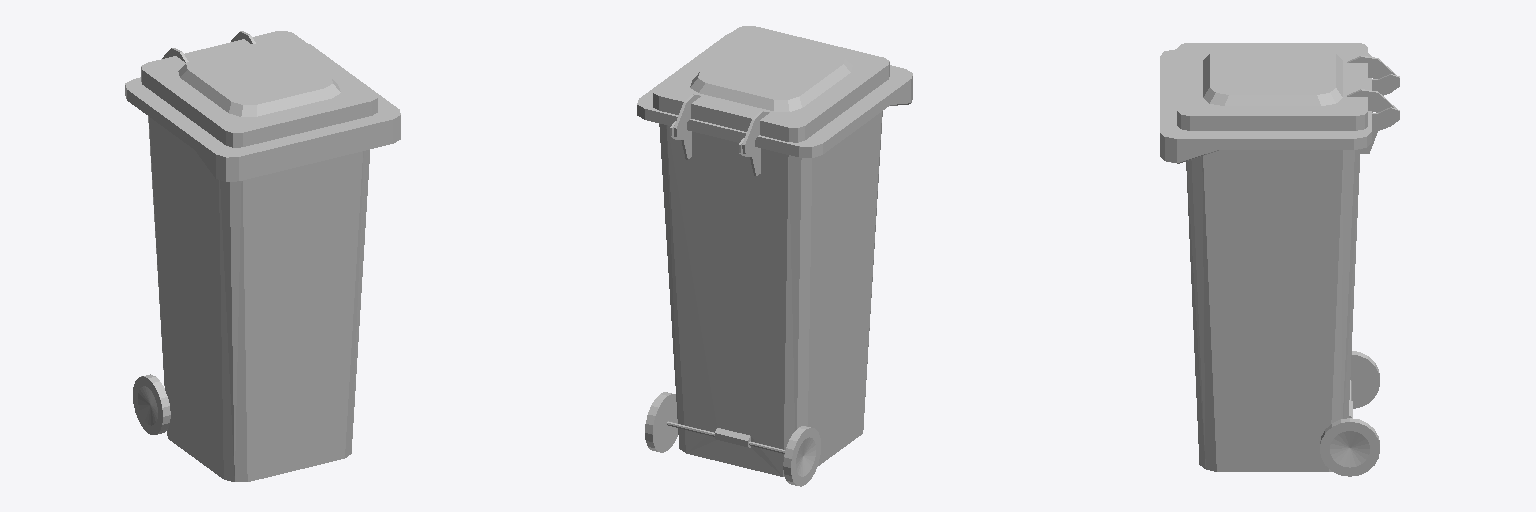
File: blueBin.obj
3 views of the same model, side by side, from view 1: azimuth 30°, elevation 25°; view 2: azimuth 150°, elevation 25°; view 3: azimuth 270°, elevation 25° (orthographic).
Parts seen in each view (by area): view 1: Trashbin, TrashbinLid, TrashbinWheels; view 2: Trashbin, TrashbinLid, TrashbinWheels; view 3: Trashbin, TrashbinLid, TrashbinWheels.
Part boxes in pixels (left/top/right/bottom): Trashbin: left=125, top=44, right=400, bottom=481; TrashbinLid: left=141, top=31, right=377, bottom=147; TrashbinWheels: left=133, top=374, right=170, bottom=434; Trashbin: left=637, top=33, right=912, bottom=476; TrashbinLid: left=653, top=26, right=889, bottom=153; TrashbinWheels: left=645, top=392, right=820, bottom=486; Trashbin: left=1160, top=49, right=1399, bottom=471; TrashbinLid: left=1177, top=43, right=1396, bottom=130; TrashbinWheels: left=1320, top=351, right=1379, bottom=476.
Bounding box in the file's own units: 0.643 × 1.24 × 0.7297.